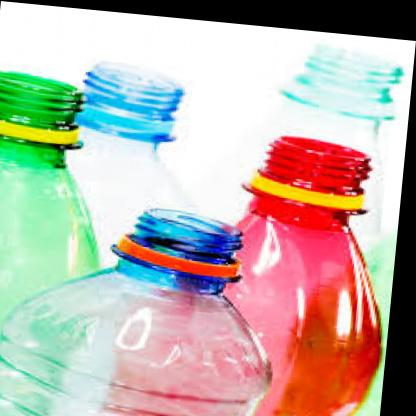Plastic: (0, 13, 411, 416), (0, 191, 286, 416)
